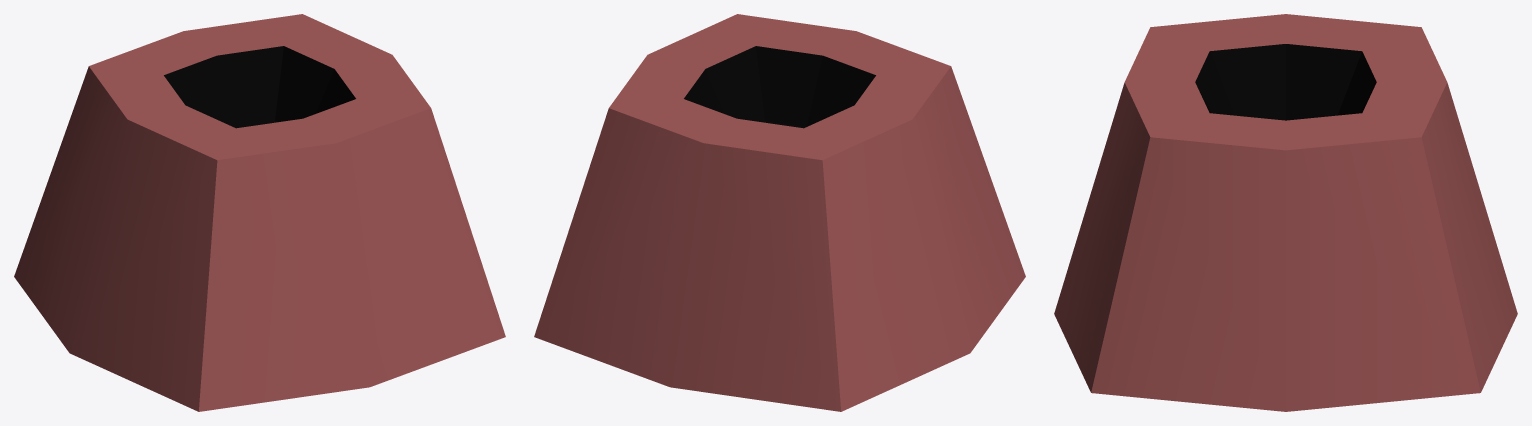
File: WeaponDispenser.fbx
3 renders of one model, left to right at view 1: azimuth 30°, elevation 25°; view 2: azimuth 150°, elevation 25°; view 3: azimuth 270°, elevation 25°, orthographic. The views are drawn at different scales.
Parts seen in each view (by area): view 1: WeaponDispenser1; view 2: WeaponDispenser1; view 3: WeaponDispenser1.
Boxes of the visible parts, x1,y1,x2,y2 form: WeaponDispenser1: [14, 14, 505, 411]; WeaponDispenser1: [534, 14, 1025, 411]; WeaponDispenser1: [1054, 14, 1517, 411].
Bounding box in the file's own units: 2.87 × 1.58 × 2.87.
